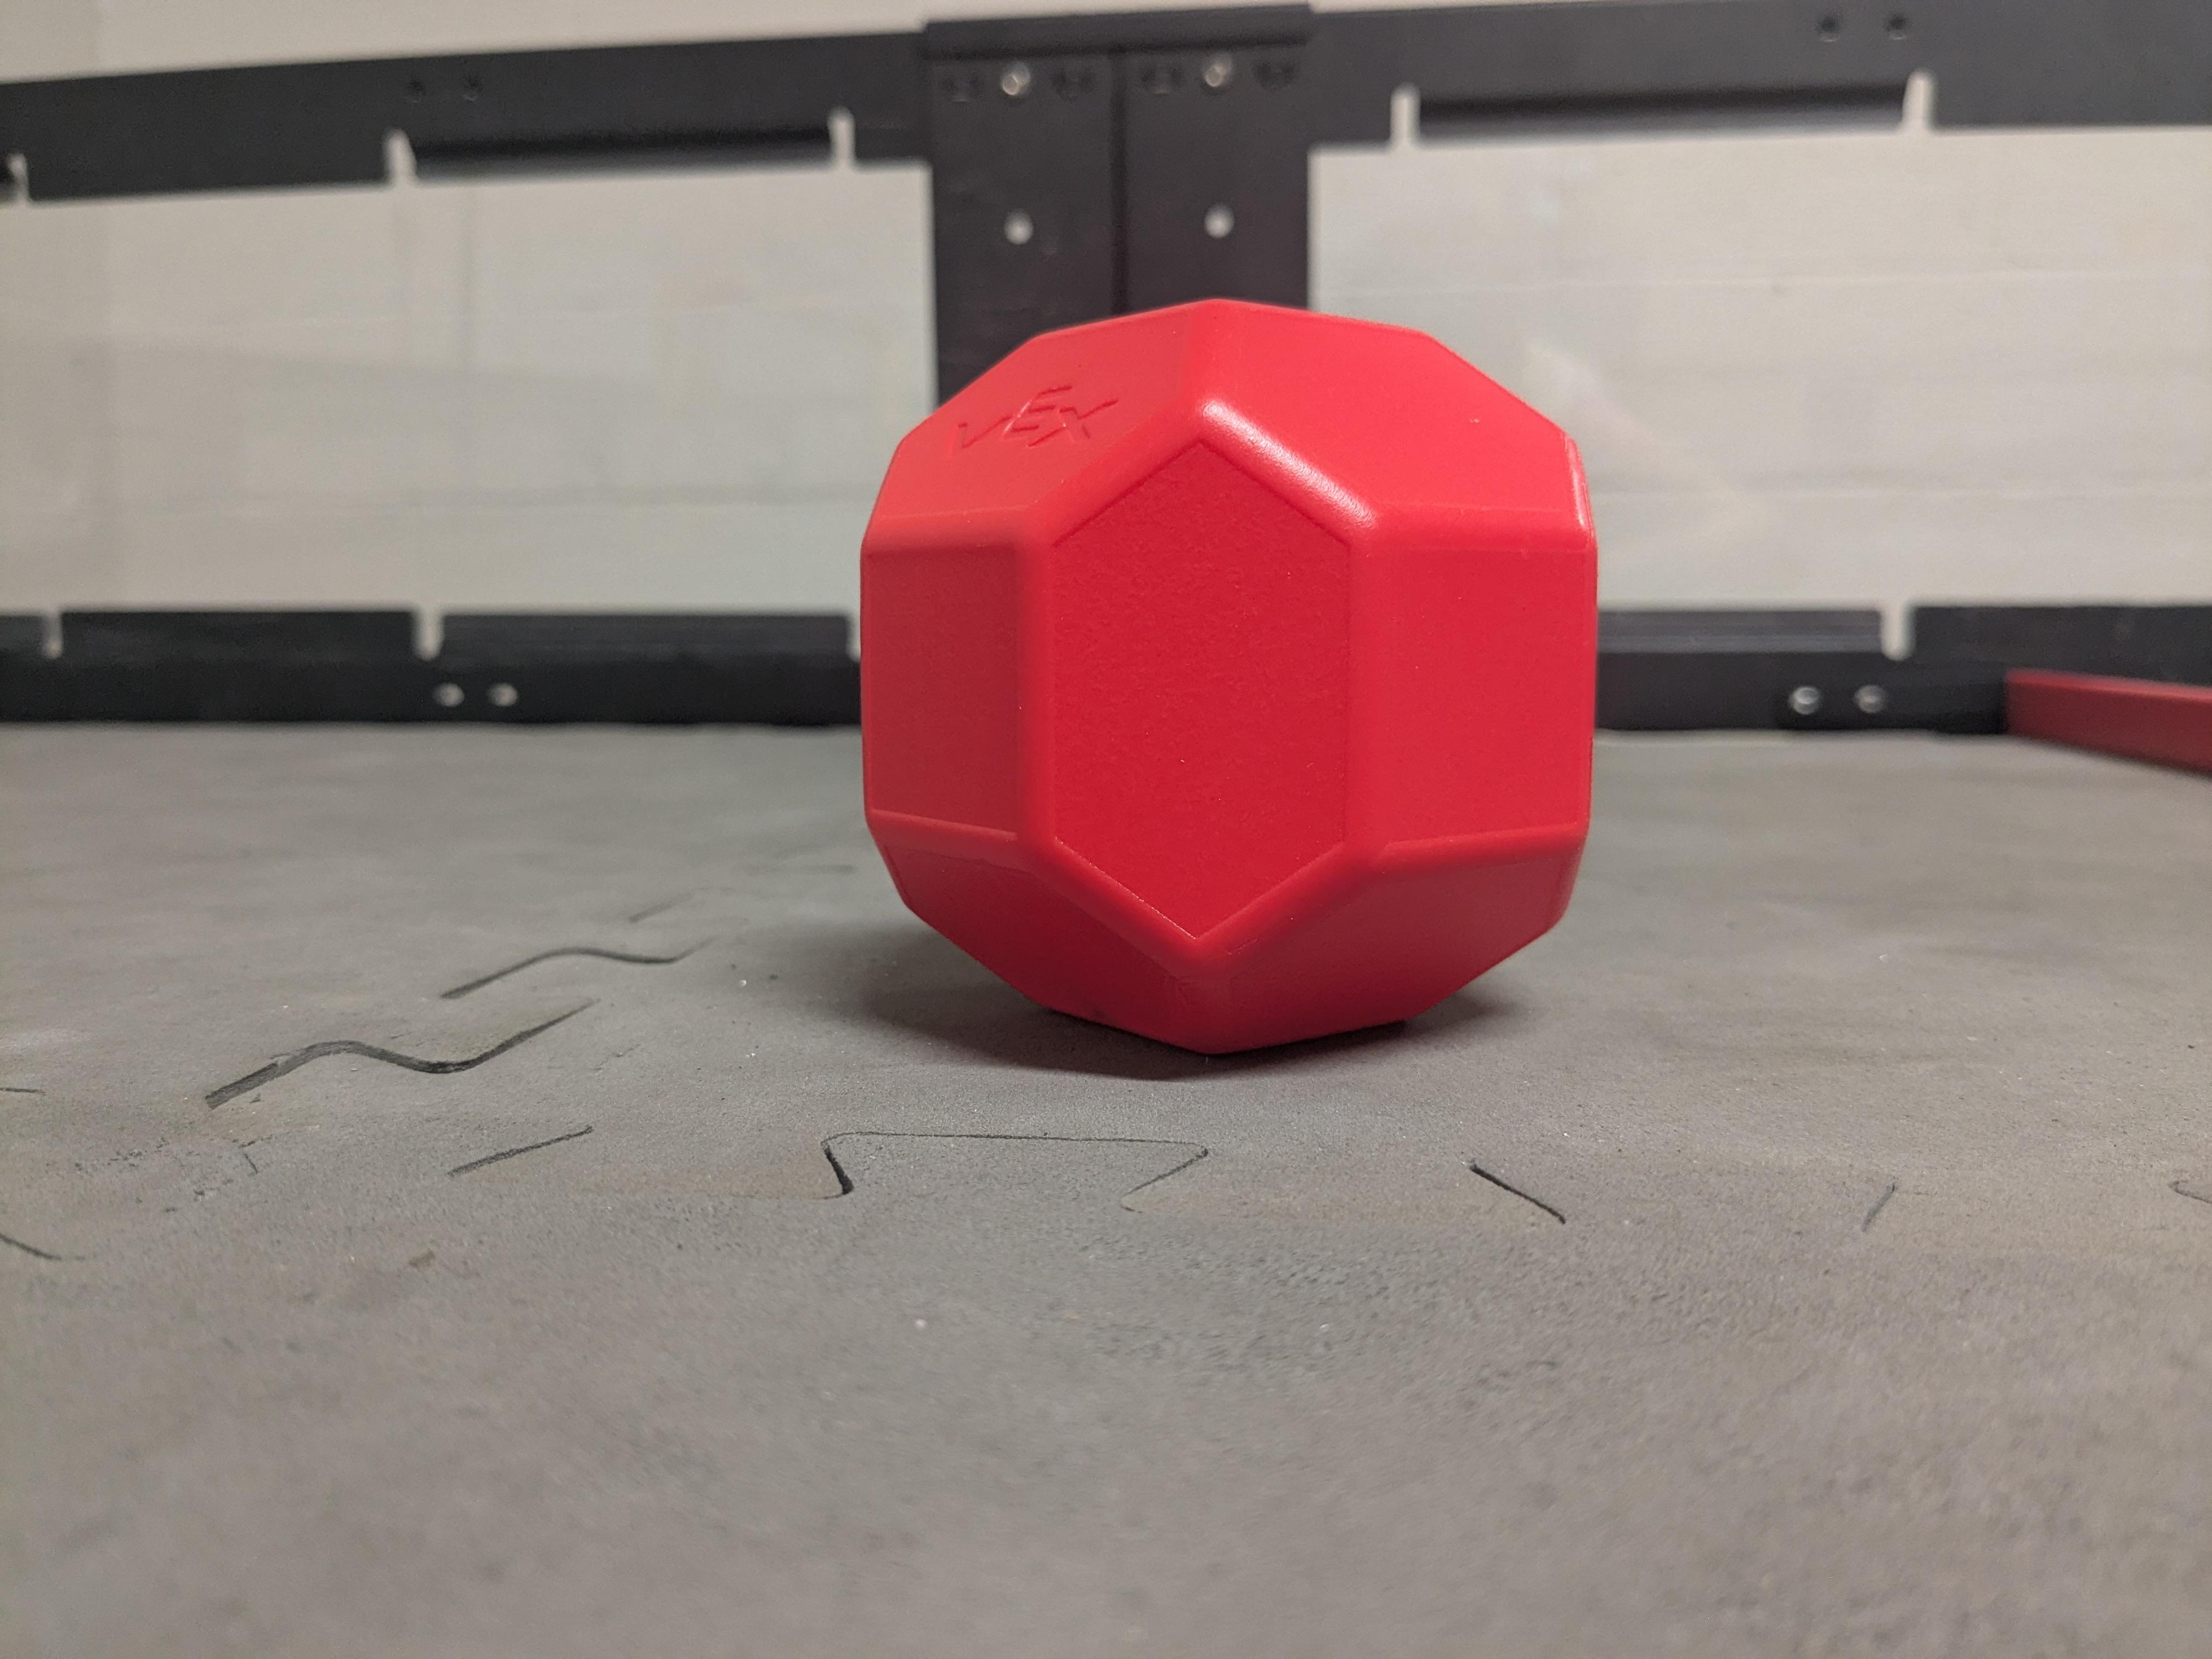Vex-Pieces-RED: (864, 301, 1599, 1053)
